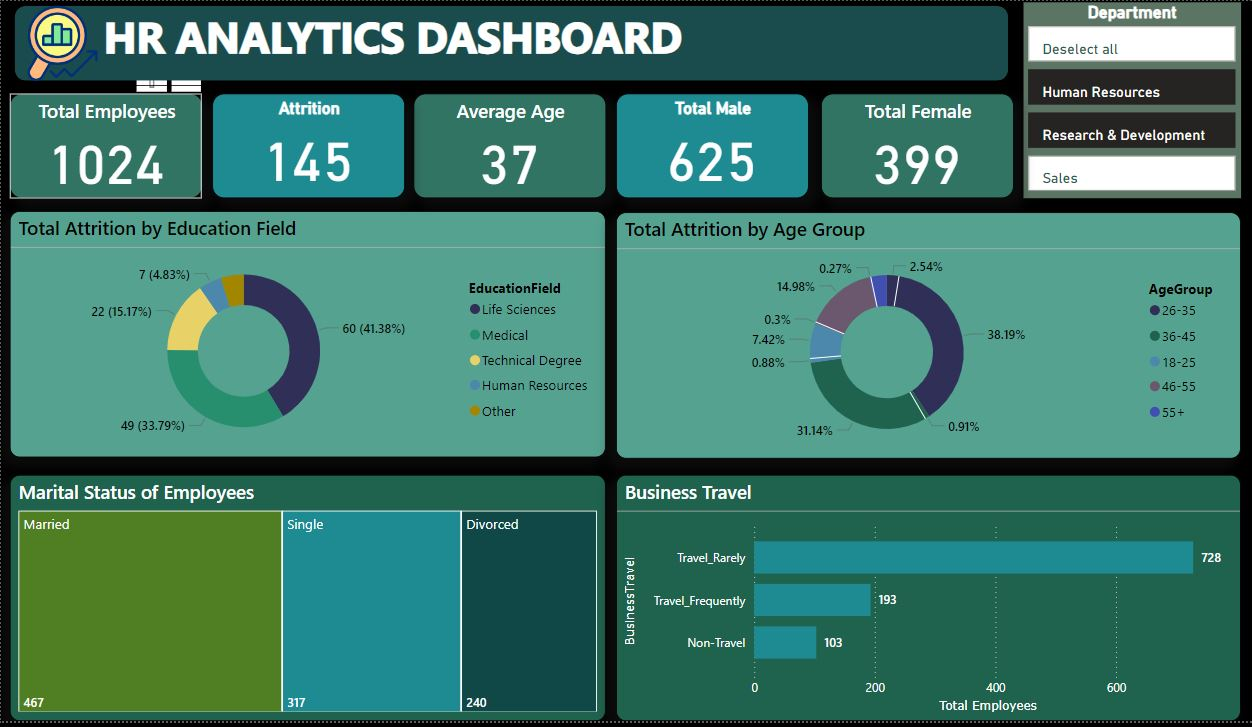

The page's visual inventory and layout, read from the dashboard file:
{"tool":"powerbi","page":{"name":"Page 1","canvas":[1280,720],"ordinal":0},"visuals":[{"type":"card","title":"Average Age","fields":{"Values":["HR_Analytics.Average Age"]},"box":[415,83.3,191.7,105],"z":0},{"type":"card","title":"Total Employees","fields":{"Values":["HR_Analytics.Total Employees"]},"box":[16.2,83.8,183.8,105],"z":1000},{"type":"card","title":"Attrition","fields":{"Values":["HR_Analytics.Total Attrition"]},"box":[210,83.3,191.7,105],"z":2000},{"type":"advancedSlicerVisual","fields":{"Values":["HR_Analytics.Department"]},"box":[1026.2,0,237.5,186.2],"z":3000},{"type":"card","title":"Total Male","fields":{"Values":["HR_Analytics.Total Male"]},"box":[615,81.7,193.3,105],"z":4000},{"type":"card","title":"Total Female","fields":{"Values":["HR_Analytics.Total Female"]},"box":[820,81.7,193.3,105],"z":5000},{"type":"shape","box":[17.1,11.4,995.7,61.4],"z":6000},{"type":"textbox","box":[30,1.4,742.9,82.9],"z":7000},{"type":"image","box":[17.1,7.1,97.1,72.9],"z":8000},{"type":"donutChart","title":"Total Attrition by Education Field","fields":{"Category":["HR_Analytics.EducationField"],"Y":["HR_Analytics.Total Attrition"]},"box":[16.2,206.2,598.8,245],"z":9000},{"type":"donutChart","title":"Total Attrition by Age Group","fields":{"Y":["HR_Analytics.Total Attrition"],"Category":["HR_Analytics.AgeGroup"]},"box":[628.8,205,635,247.5],"z":10000},{"type":"treemap","title":"Marital Status of Employees","fields":{"Group":["HR_Analytics.MaritalStatus"],"Values":["HR_Analytics.Total Employees"]},"box":[16.2,460,598.8,246.2],"z":11000},{"type":"clusteredBarChart","title":"Business Travel","fields":{"Category":["HR_Analytics.BusinessTravel"],"Y":["HR_Analytics.Total Employees"]},"box":[628.3,460,635,246.7],"z":12000}]}

Visuals, with their boxes in screenshot pixels (x1, y1, x2, y2):
"Average Age" card: (left=417, top=93, right=602, bottom=195)
"Total Employees" card: (left=32, top=94, right=209, bottom=195)
"Attrition" card: (left=219, top=93, right=404, bottom=195)
advancedSlicerVisual - HR_Analytics.Department: (left=1006, top=13, right=1235, bottom=193)
"Total Male" card: (left=610, top=92, right=796, bottom=193)
"Total Female" card: (left=807, top=92, right=994, bottom=193)
shape: (left=33, top=24, right=993, bottom=83)
textbox: (left=45, top=14, right=762, bottom=94)
image: (left=33, top=20, right=126, bottom=90)
"Total Attrition by Education Field" donutChart: (left=32, top=212, right=610, bottom=448)
"Total Attrition by Age Group" donutChart: (left=623, top=211, right=1235, bottom=450)
"Marital Status of Employees" treemap: (left=32, top=457, right=610, bottom=694)
"Business Travel" clusteredBarChart: (left=622, top=457, right=1235, bottom=695)
